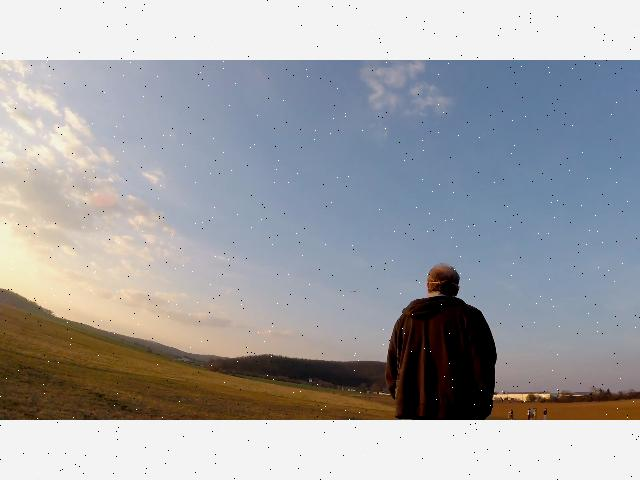Anti-Drone: (345, 284, 367, 300)
